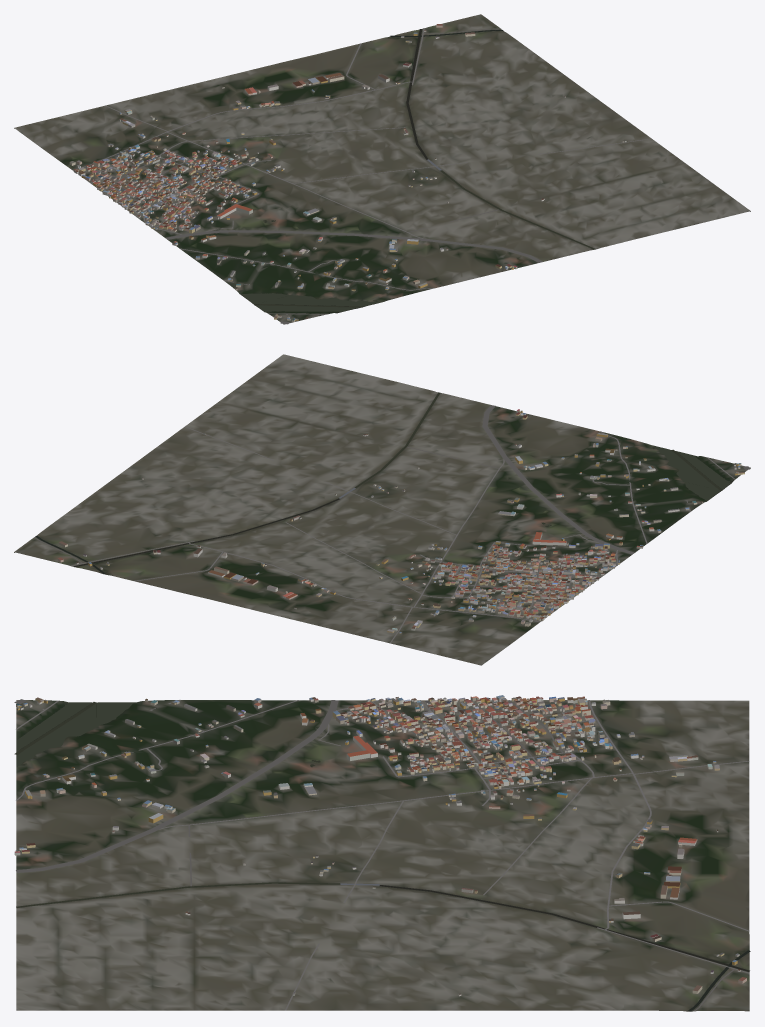
3 renders of one model, top to bottom at view 1: azimuth 30°, elevation 25°; view 2: azimuth 150°, elevation 25°; view 3: azimuth 270°, elevation 25°, orthographic. The views are drawn at different scales.
Visible parts, largest first — view 1: ground, buildings, roads, water; view 2: ground, buildings, roads, water; view 3: ground, buildings, roads, water.
Boxes of the visible parts, <box> form: ground: <box>14,14,750,324</box>; buildings: <box>69,24,626,322</box>; roads: <box>73,28,651,324</box>; water: <box>241,29,595,312</box>; ground: <box>14,354,750,665</box>; buildings: <box>57,409,744,633</box>; roads: <box>34,405,749,643</box>; water: <box>35,392,730,574</box>; ground: <box>16,700,749,1011</box>; buildings: <box>14,695,746,996</box>; roads: <box>14,699,749,1010</box>; water: <box>14,702,750,1011</box>.
Bounding box in the file's own units: 1410 × 20.4 × 1409.
